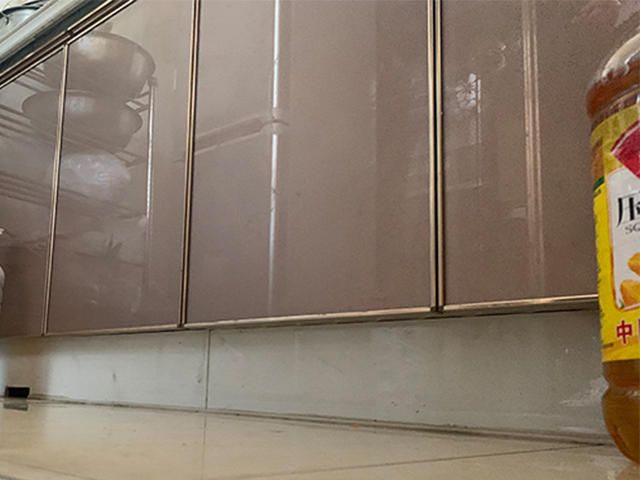cabinet: (1, 1, 603, 445)
